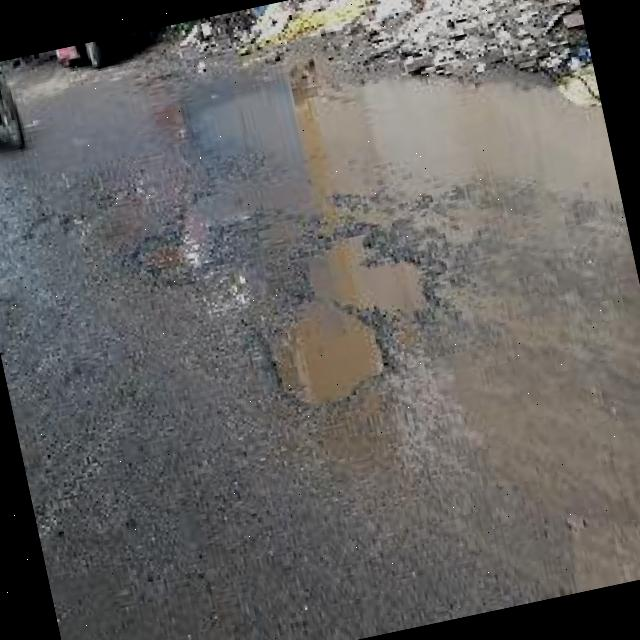stagnation: (229, 213, 464, 432), (215, 70, 422, 248), (110, 169, 224, 310)
